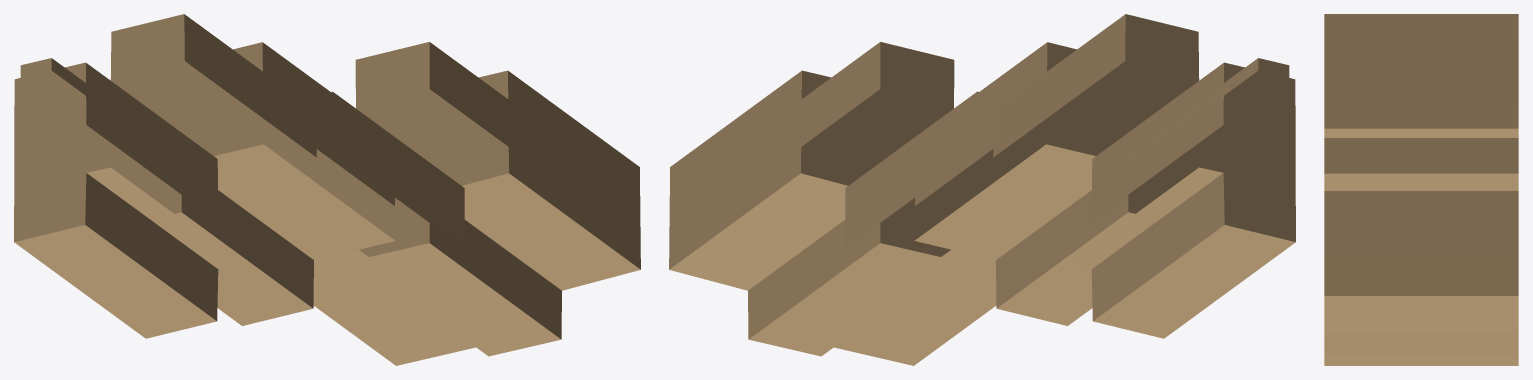
The picture shows the model from 3 angles, left to right: view 1: azimuth 30°, elevation 25°; view 2: azimuth 150°, elevation 25°; view 3: azimuth 270°, elevation 25°; orthographic projection. The views are drawn at different scales.
Parts seen in each view (by area): view 1: 0_3_0_1_1_2_1_3_0; view 2: 0_3_0_1_1_2_1_3_0; view 3: 0_3_0_1_1_2_1_3_0.
Part boxes in pixels (x1,y1,x2,y2): 0_3_0_1_1_2_1_3_0: [14, 14, 640, 365]; 0_3_0_1_1_2_1_3_0: [669, 14, 1295, 365]; 0_3_0_1_1_2_1_3_0: [1324, 14, 1518, 365].
Size of the model in its own units: 45.5 by 25.38 by 21.
